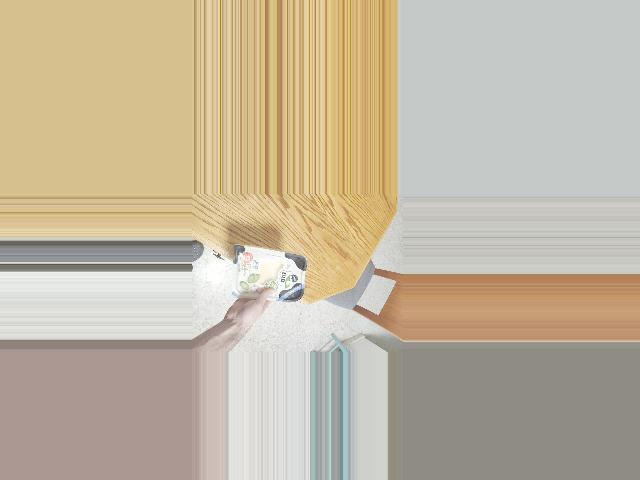cheese: (237, 249, 303, 301)
